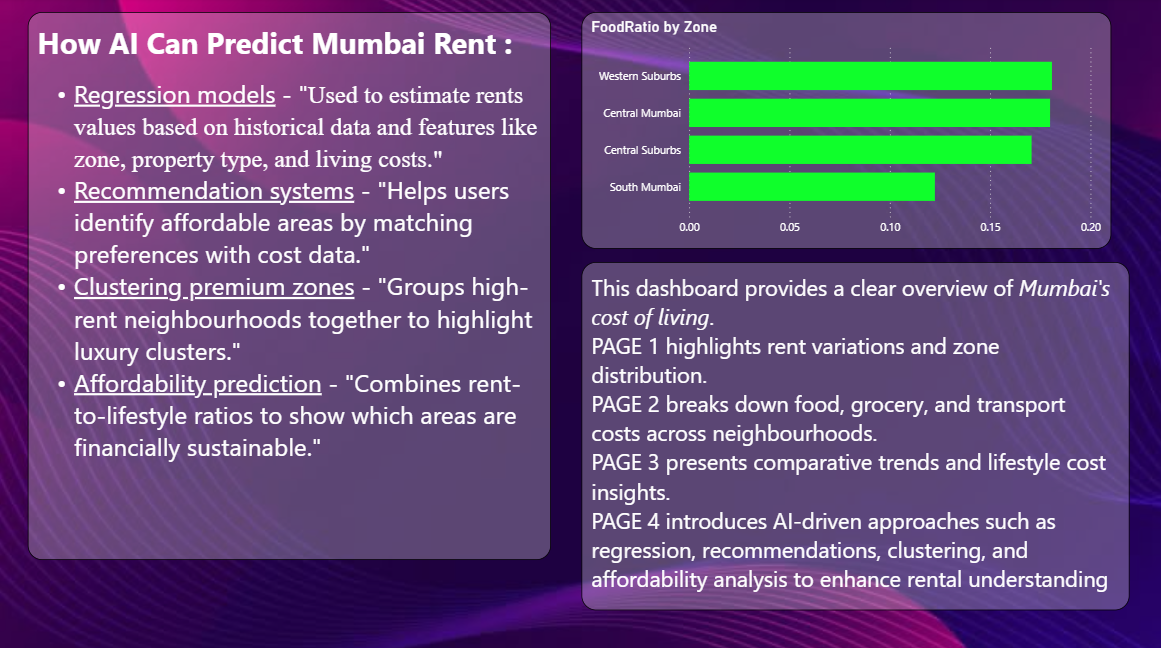

Layout of this report page (visuals, bound fields, positions):
{"tool":"powerbi","page":{"name":"Page 4","canvas":[1280,720],"ordinal":3},"visuals":[{"type":"textbox","box":[31.1,16.9,574.5,601.3],"z":0},{"type":"barChart","fields":{"Y":["Sheet1.FoodRatio"],"Category":["Sheet1.Zone"]},"box":[639.4,16.9,581.6,259.7],"z":1000},{"type":"textbox","box":[639.4,290.8,601.3,382.5],"z":2000}]}

Visuals, with their boxes in screenshot pixels (x1, y1, x2, y2), scaled from the page's 1280x720 canvas onto the 1161x648 screenshot:
textbox: left=28, top=15, right=549, bottom=556
barChart - Sheet1.FoodRatio x Sheet1.Zone: left=580, top=15, right=1107, bottom=249
textbox: left=580, top=262, right=1125, bottom=606
